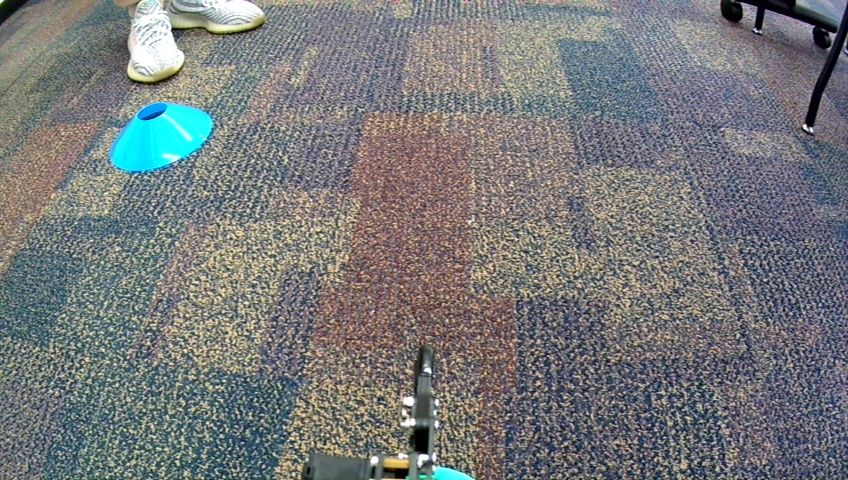cone: (110, 101, 213, 171)
